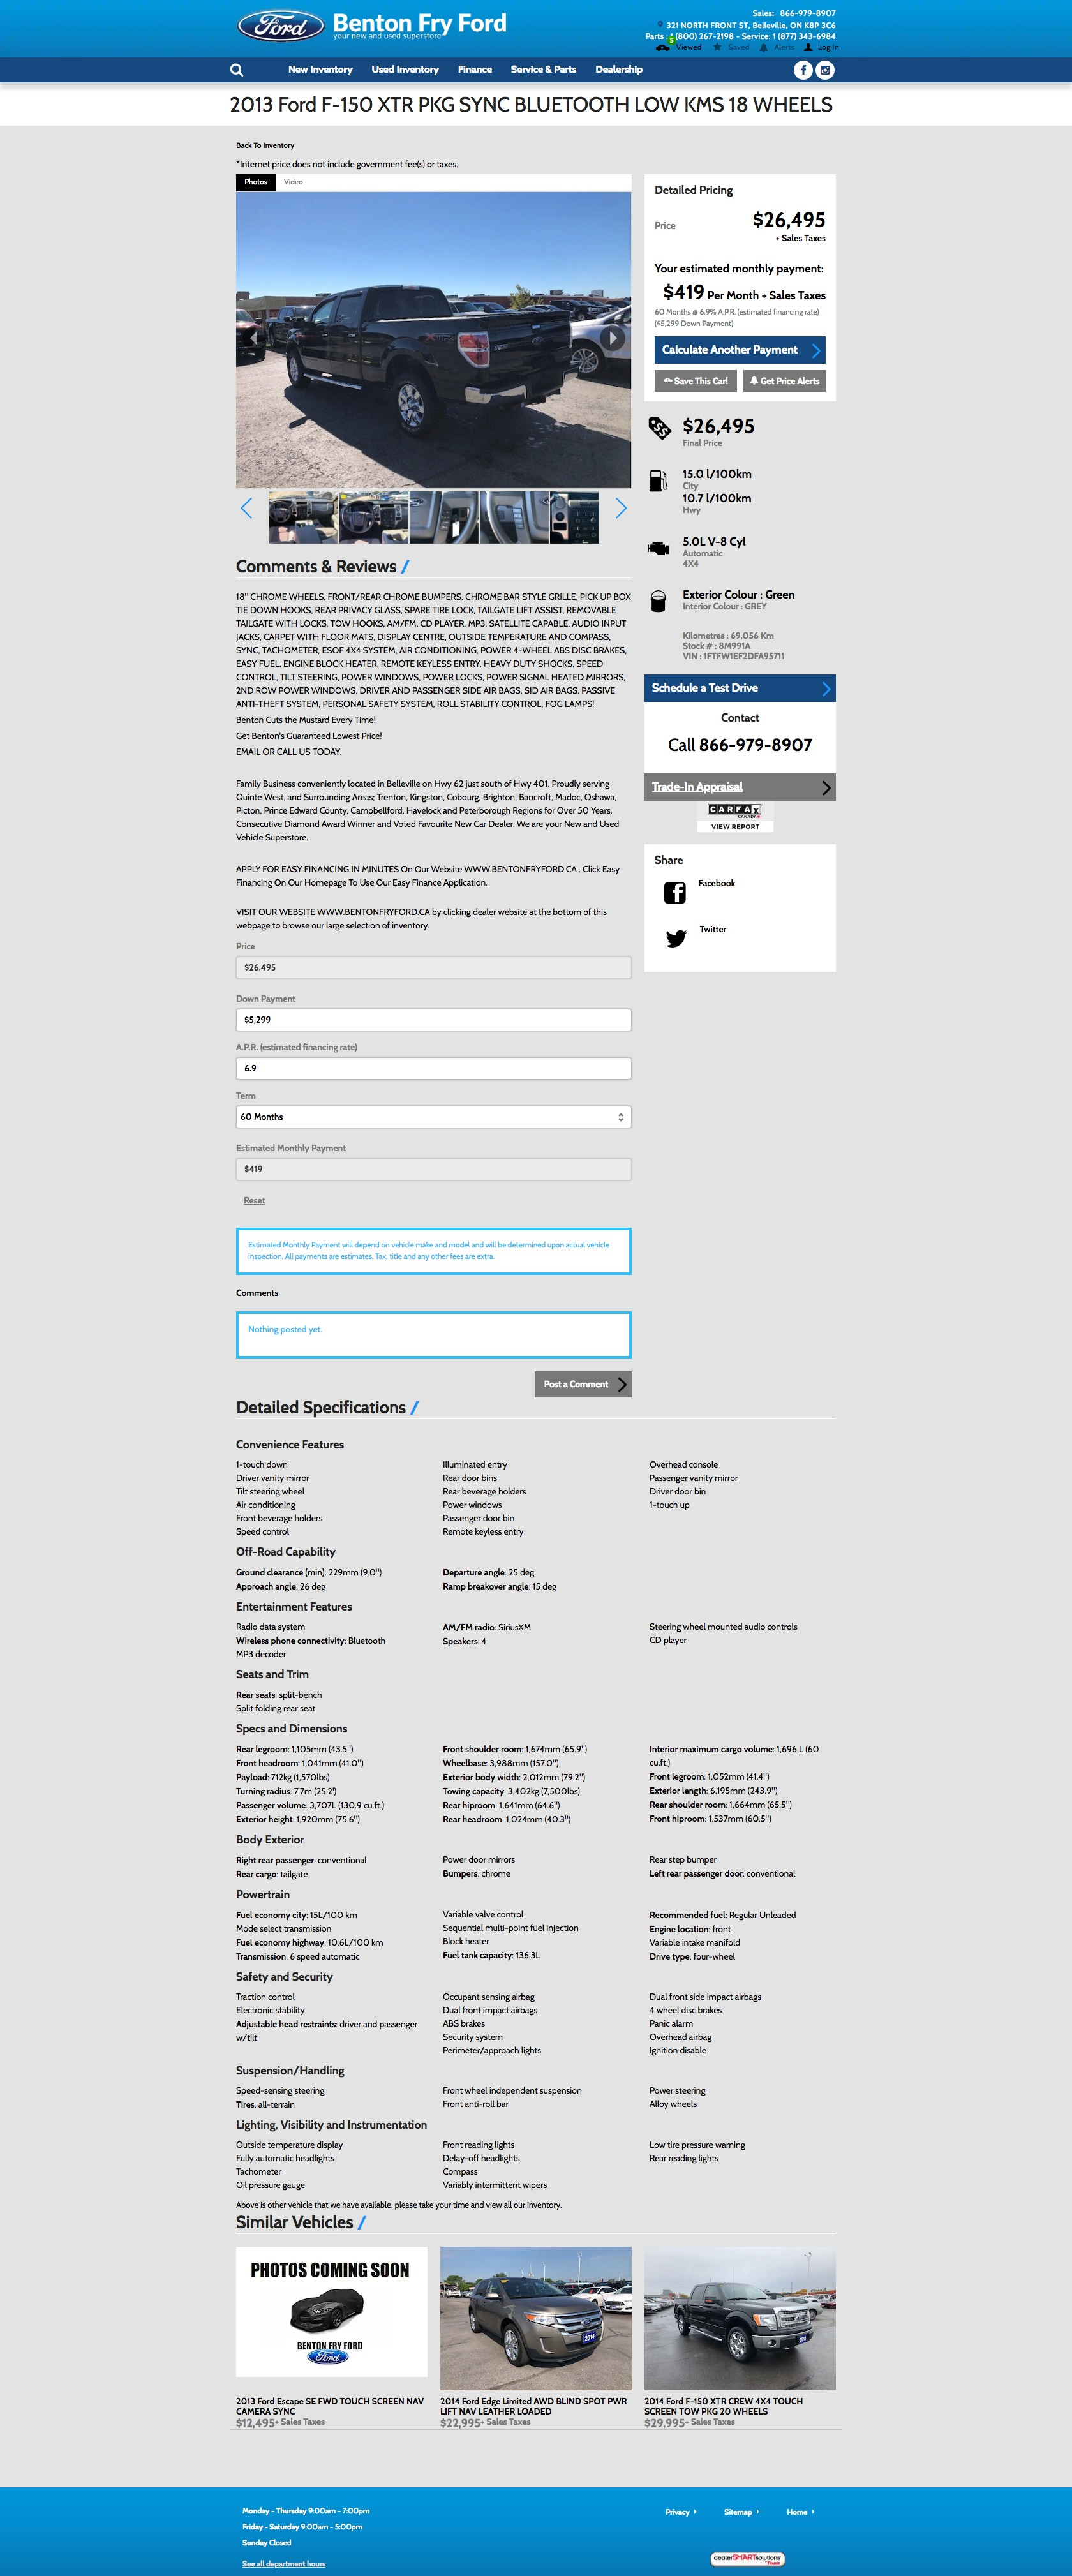car: (616, 498, 627, 521)
